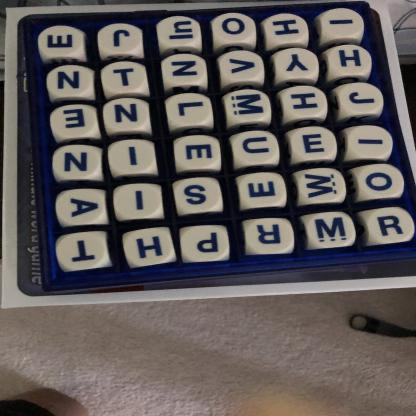a: (55, 189, 107, 226)
e: (239, 173, 287, 209), (51, 105, 99, 140), (39, 24, 85, 60), (177, 136, 223, 171), (291, 127, 337, 160)
h: (124, 228, 176, 267), (281, 86, 329, 121), (331, 45, 374, 80), (267, 14, 308, 44)
i: (113, 184, 165, 220), (108, 140, 158, 176), (346, 126, 393, 159), (322, 10, 364, 41)
in: (159, 15, 202, 50)
j: (339, 84, 385, 117), (98, 24, 144, 55)
l: (165, 93, 214, 127)
m: (307, 213, 357, 249), (225, 89, 273, 124)
n: (54, 145, 102, 181), (46, 66, 94, 99), (106, 99, 152, 132), (162, 55, 208, 86)
o: (358, 165, 407, 199), (214, 13, 256, 45)
p: (182, 226, 232, 263)
r: (244, 219, 294, 256), (369, 208, 416, 244)
s: (176, 180, 222, 214)
t: (57, 234, 108, 272), (103, 63, 148, 95)
u: (233, 132, 279, 166)
v: (222, 51, 266, 85)
w: (297, 169, 348, 204)
y: (277, 49, 320, 80)
